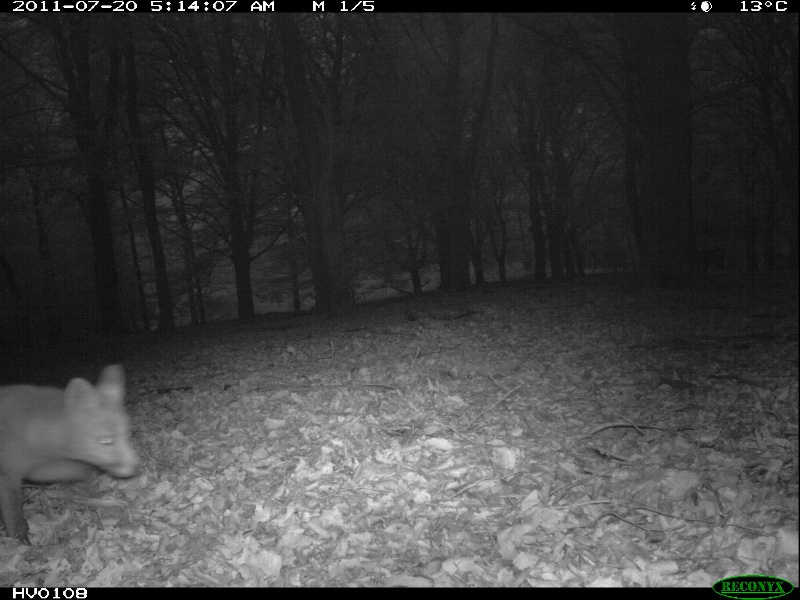fox: (1, 359, 145, 555)
